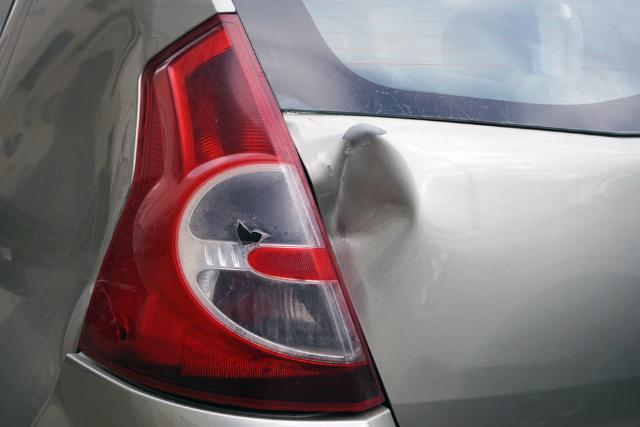Dickey: (316, 118, 526, 318)
Light: (96, 184, 298, 362)
